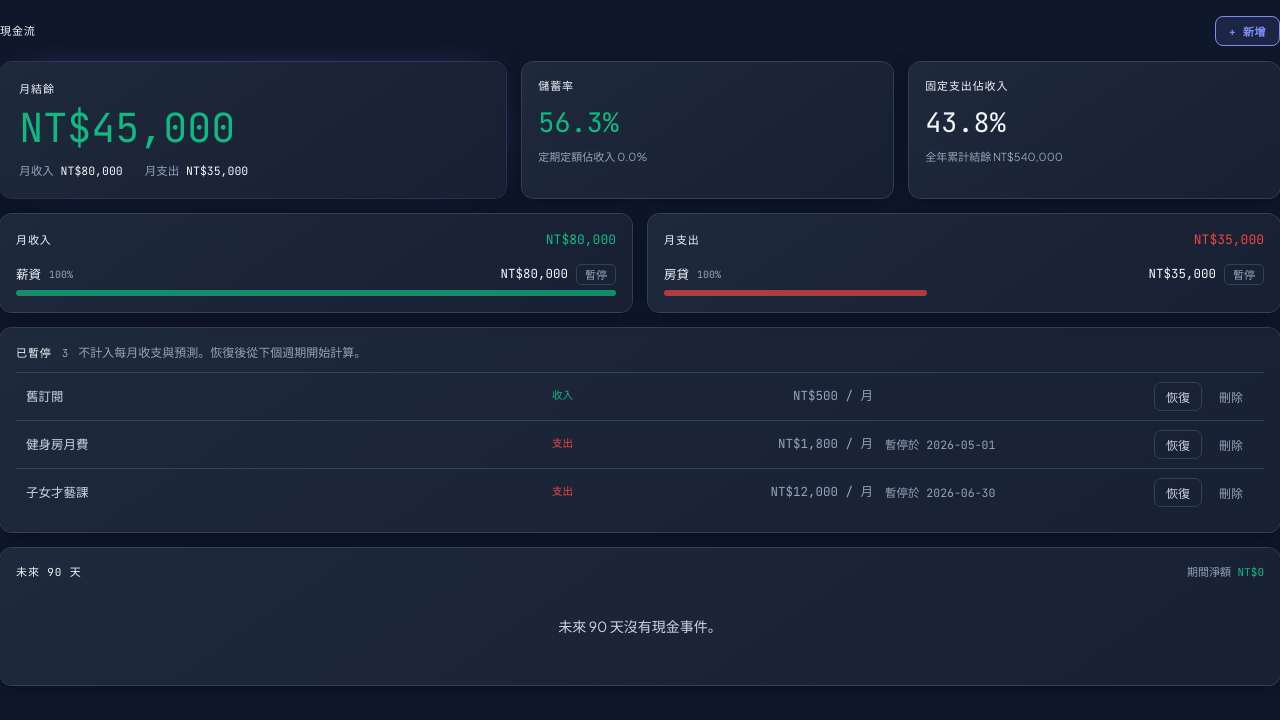
Scenario: WealthCashView: deleting › deletes the flow once confirmed, says so, and reloads
Check: the text "月收入" is shown, box [16,232,52,249]
Check: the text "薪資" is shown, box [16,265,41,284]
Click the button "刪除" in the row of "暫停於 2026-05-01": (1231, 444) [1208,430,1254,459]
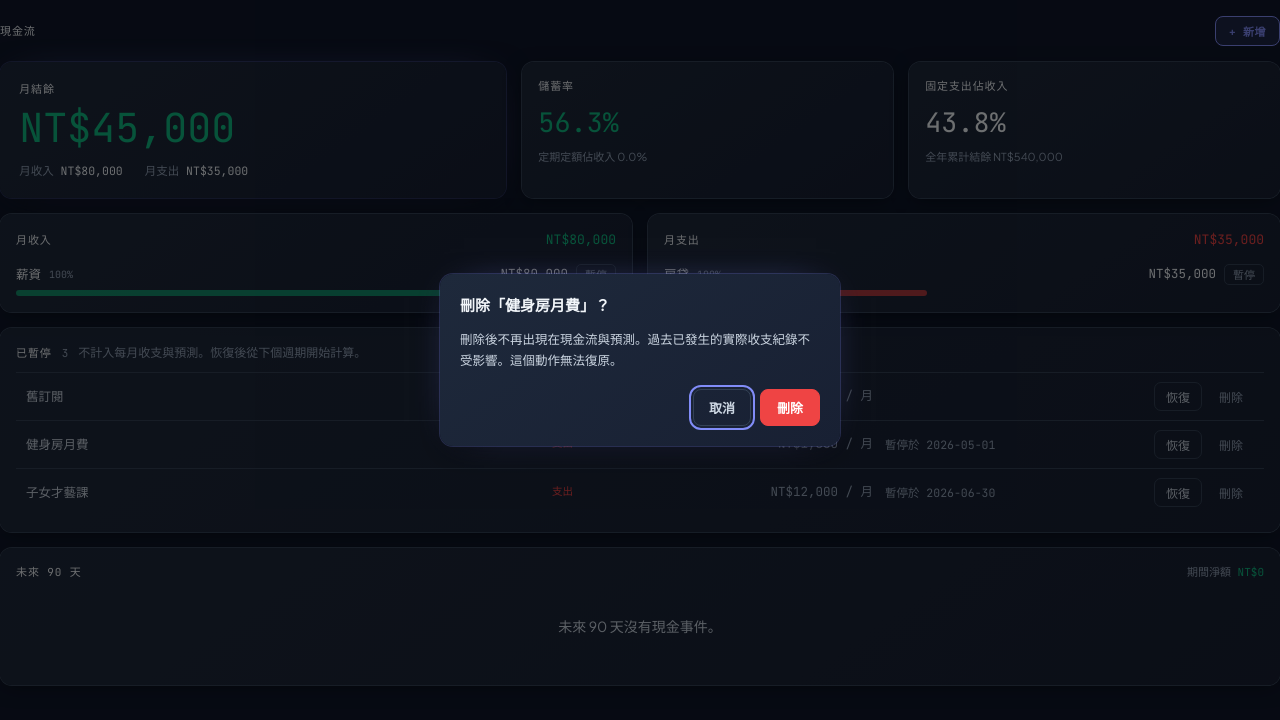
Click the button "刪除": (790, 408) [760,389,820,426]
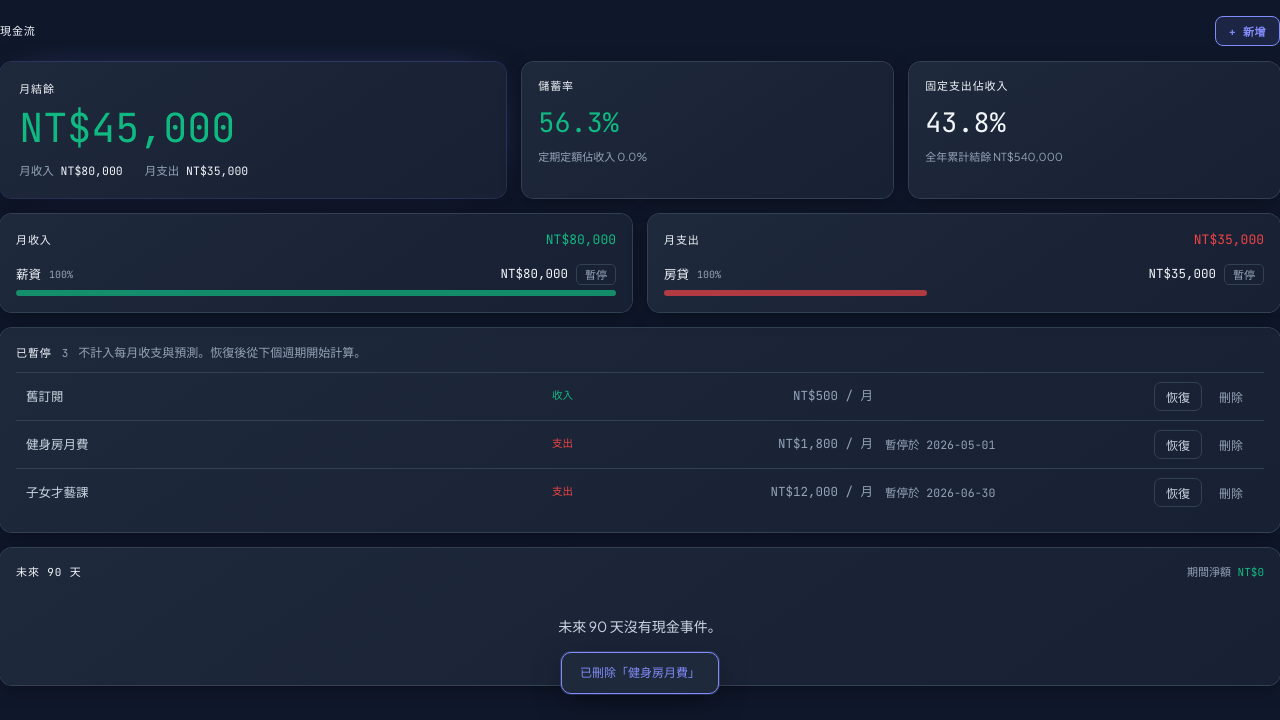
Check: the dialog is gone
